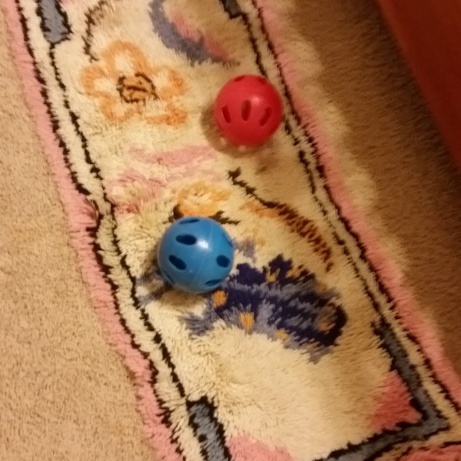blueball: (156, 213, 238, 301)
redball: (207, 72, 288, 150)
